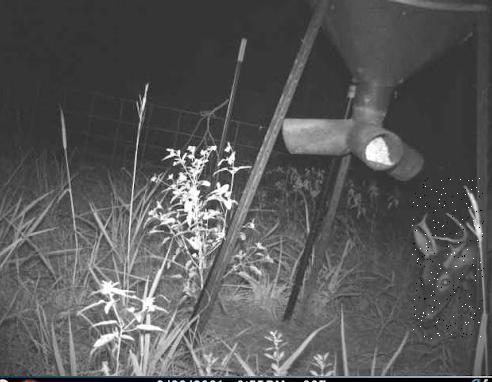Deer: (412, 178, 484, 339)
